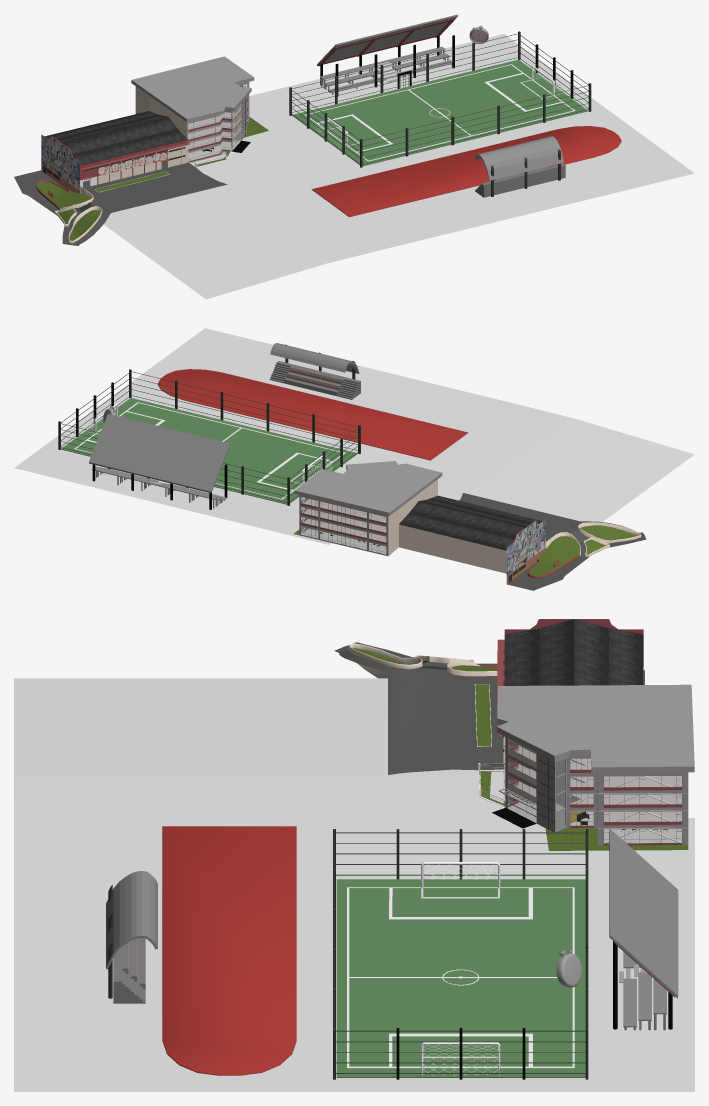
The model's file is Escenario.fbx.
3 renders of one model, top to bottom at view 1: azimuth 30°, elevation 25°; view 2: azimuth 150°, elevation 25°; view 3: azimuth 270°, elevation 25°, orthographic. The views are drawn at different scales.
Visible parts, largest first — view 1: Plane.002, Plane, Plane.017, Plane.285, Polideportivo.001, Polideportivo.056, Polideportivo.066, NurbsPath.002, Plane.016, Plane.006, Polideportivo.075, Polideportivo.057 (+11 smaller); view 2: Plane.002, Plane.017, Plane, Plane.006, Plane.285, Polideportivo.056, Polideportivo.001, Polideportivo.068, Cube.062, Polideportivo.075, NurbsPath.002, Polideportivo.073 (+11 smaller); view 3: Plane.002, Plane, Plane.017, Plane.285, Polideportivo.001, Polideportivo.056, Plane.006, vidrios, Polideportivo.073, Plane.301, NurbsPath.001, Plane.016 (+13 smaller).
Part boxes in pixels (<box>): Plane.002: <box>103,34,694,299</box>; Plane: <box>292,59,587,166</box>; Plane.017: <box>311,126,621,217</box>; Plane.285: <box>131,56,254,122</box>; Polideportivo.001: <box>14,162,227,245</box>; Polideportivo.056: <box>44,111,187,165</box>; Polideportivo.066: <box>80,139,189,187</box>; NurbsPath.002: <box>292,33,588,164</box>; Plane.016: <box>475,136,563,180</box>; Plane.006: <box>317,14,457,65</box>; Polideportivo.075: <box>36,181,100,240</box>; Polideportivo.057: <box>41,134,80,190</box>; Plane.002: <box>14,328,694,544</box>; Plane.017: <box>157,369,467,460</box>; Plane: <box>61,398,357,504</box>; Plane.006: <box>89,413,230,492</box>; Plane.285: <box>294,461,442,515</box>; Polideportivo.056: <box>399,495,542,550</box>; Polideportivo.001: <box>459,493,646,590</box>; Polideportivo.068: <box>399,524,506,573</box>; Cube.062: <box>269,361,360,399</box>; Polideportivo.075: <box>529,525,637,575</box>; NurbsPath.002: <box>60,371,357,502</box>; Polideportivo.073: <box>299,499,386,546</box>; Plane.002: <box>14,678,694,1091</box>; Plane: <box>336,879,585,1077</box>; Plane.017: <box>162,826,296,1075</box>; Plane.285: <box>496,684,694,772</box>; Polideportivo.001: <box>334,642,644,774</box>; Polideportivo.056: <box>504,619,643,685</box>; Plane.006: <box>609,829,678,998</box>; vidrios: <box>508,740,681,842</box>; Polideportivo.073: <box>504,736,688,829</box>; Plane.301: <box>505,737,688,845</box>; NurbsPath.001: <box>336,832,585,1073</box>; Plane.016: <box>106,871,157,969</box>.
Size of what is drawn, in the model's own units: 44472 by 5044 by 27391.
